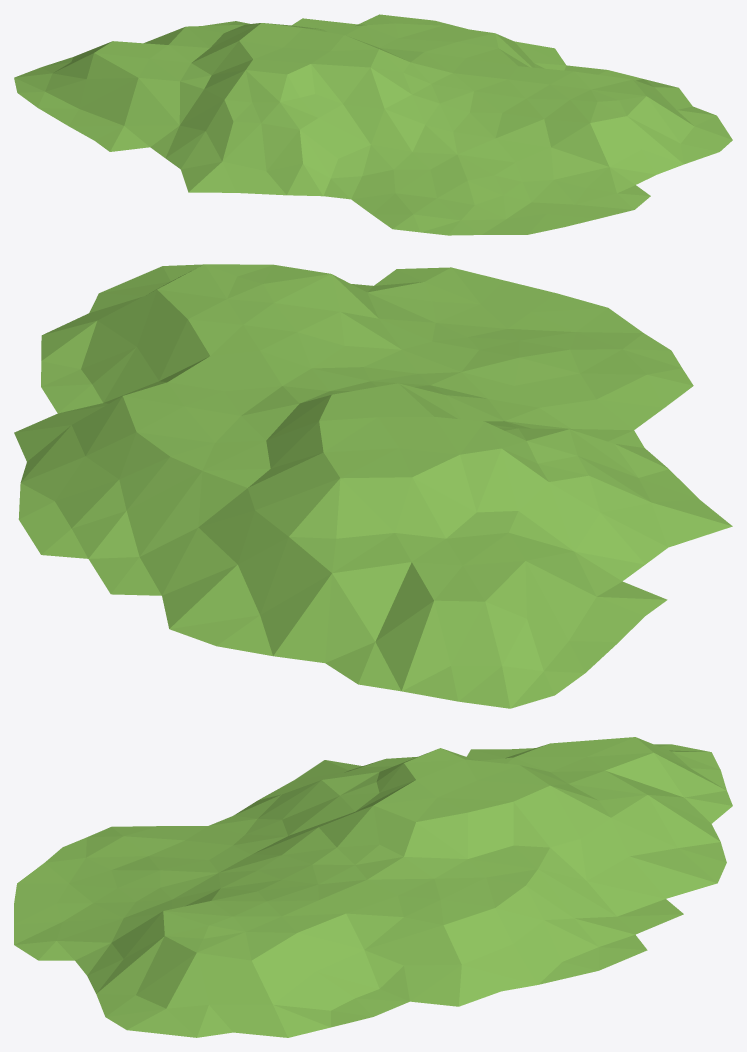
File: MT_Mountain_M_c_12_LOD.fbx
3 views of the same model, one above another, from view 1: azimuth 30°, elevation 25°; view 2: azimuth 150°, elevation 25°; view 3: azimuth 270°, elevation 25° (orthographic). The views are drawn at different scales.
Parts seen in each view (by area): view 1: MT_Mountain_M_c_12_LOD0; view 2: MT_Mountain_M_c_12_LOD0; view 3: MT_Mountain_M_c_12_LOD0.
Boxes of the visible parts, x1=… form: MT_Mountain_M_c_12_LOD0: x1=14, y1=14, x2=732, y2=235; MT_Mountain_M_c_12_LOD0: x1=14, y1=264, x2=732, y2=708; MT_Mountain_M_c_12_LOD0: x1=14, y1=737, x2=732, y2=1037.
Size of what is drawn, in the model's own units: 4453 by 525 by 4609.
